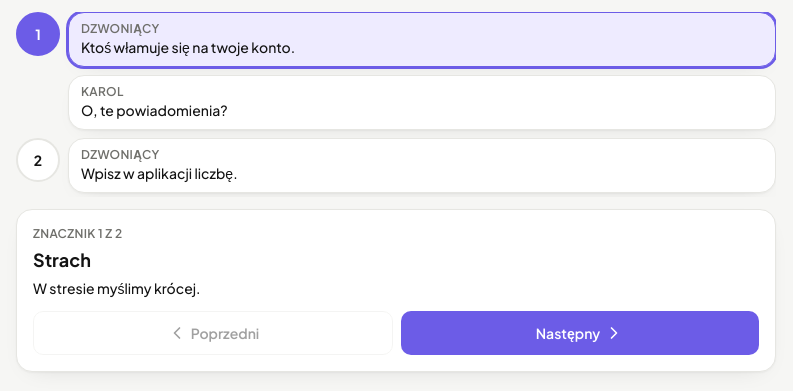
Test case: AnnotatedReplayBlock › transkrypcja nagrania z numerowanymi znacznikami; „Dalej” w pasku dopiero po ostatnim znaczniku, zapis { seen: N }
Check: the list with test id "replay-transcript" shows "O, te powiadomienia?", box [81,101,228,119]
Check: the element with test id "replay-card" shows "Znacznik 1 z 2", box [16,209,776,372]
Click the button with test id "replay-next": x=580, y=333 [401,311,759,355]
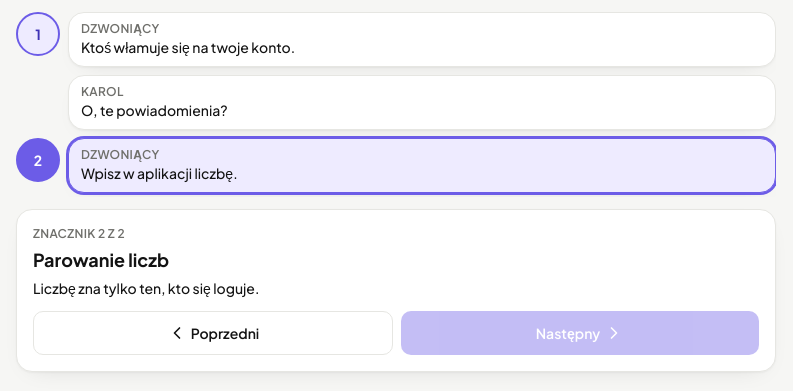
Check: the element with test id "replay-card" shows "Parowanie liczb", box [33,248,169,271]
